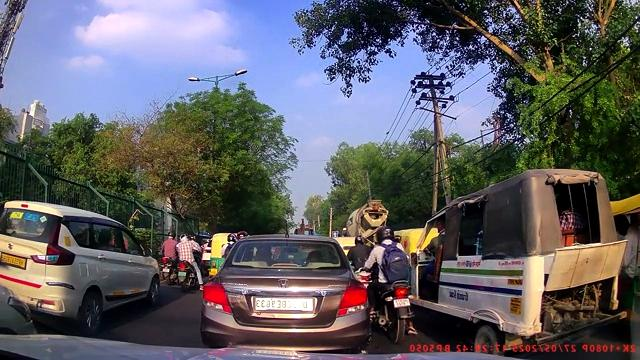motorcycle_with_helmet: (367, 225, 413, 344)
motorcycle_without_helmet: (176, 232, 203, 292)
